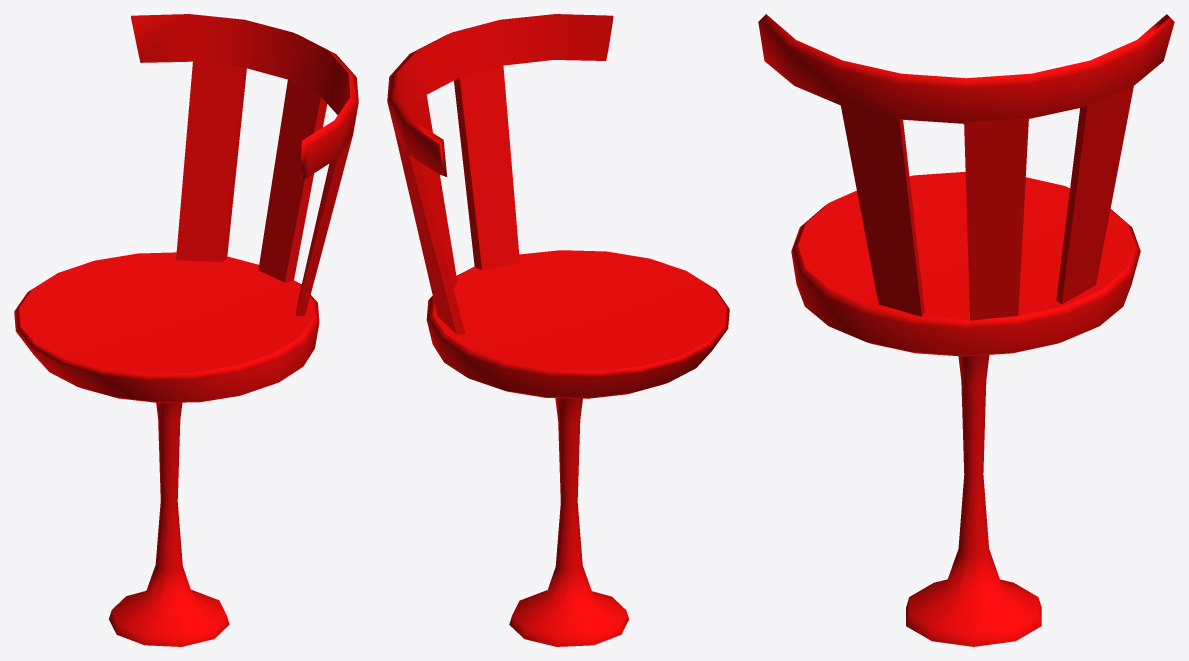
File: Chair.fbx
The picture shows the model from 3 angles, left to right: view 1: azimuth 30°, elevation 25°; view 2: azimuth 150°, elevation 25°; view 3: azimuth 270°, elevation 25°; orthographic projection. The views are drawn at different scales.
Parts seen in each view (by area): view 1: pCylinder11; view 2: pCylinder11; view 3: pCylinder11.
Boxes of the visible parts, <box> form: pCylinder11: <box>14,14,358,646</box>; pCylinder11: <box>387,14,729,646</box>; pCylinder11: <box>758,14,1174,646</box>.
Bounding box in the file's own units: 43.58 × 73.27 × 44.03.
